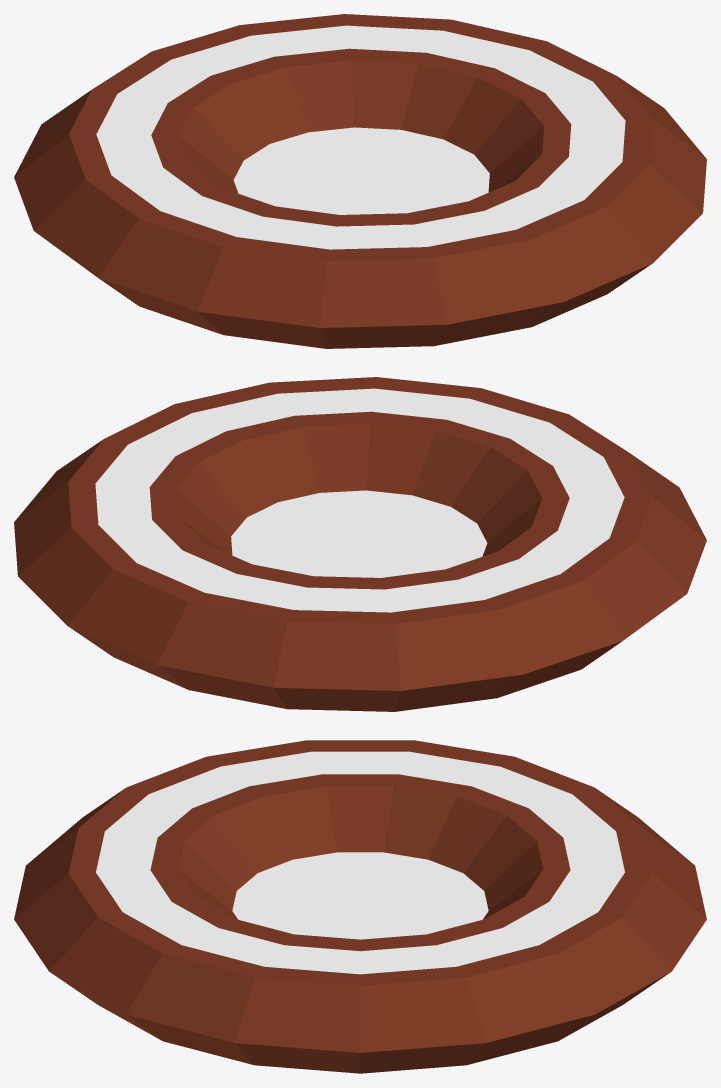
File: jap09.fbx
3 views of the same model, one above another, from view 1: azimuth 30°, elevation 25°; view 2: azimuth 150°, elevation 25°; view 3: azimuth 270°, elevation 25° (orthographic).
Parts seen in each view (by area): view 1: Torus.001, Plane; view 2: Torus.001, Plane; view 3: Torus.001, Plane.
Part boxes in pixels (box(x1,y1,x2,y2)): Torus.001: box(14, 14, 706, 348); Plane: box(233, 127, 489, 214); Torus.001: box(14, 377, 706, 711); Plane: box(231, 490, 487, 577); Torus.001: box(14, 740, 706, 1073); Plane: box(232, 852, 488, 939).
Size of the model in its own units: 290 by 40.62 by 291.
